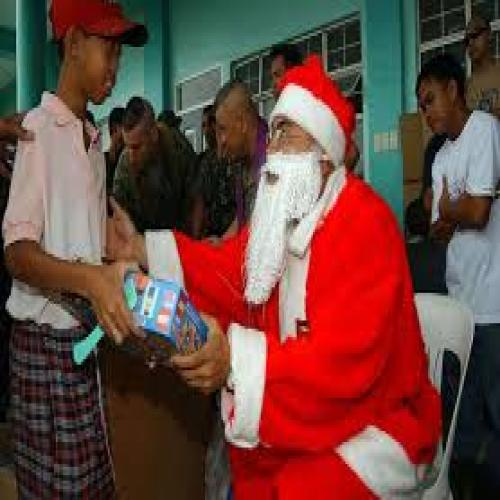Santa: (106, 52, 442, 500)
